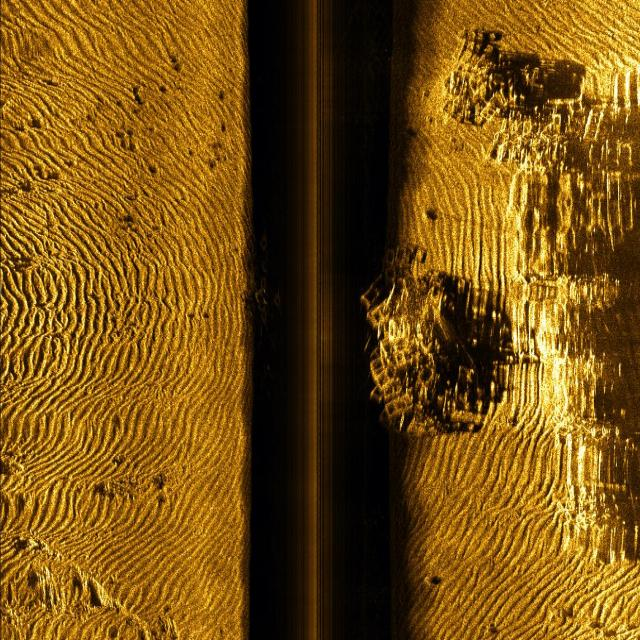artificial reef: (356, 239, 474, 430), (440, 24, 552, 164), (253, 226, 287, 338)
